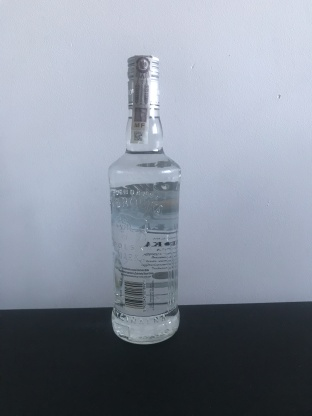nakretka: (124, 50, 162, 112)
